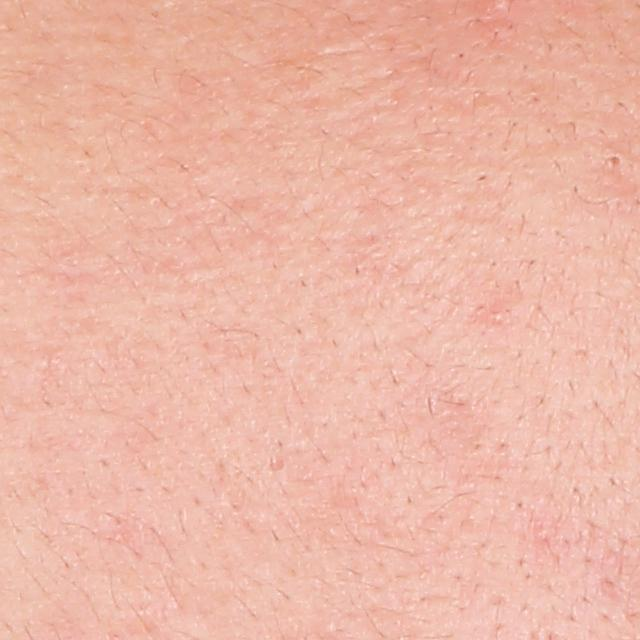comedo: (601, 151, 628, 174)
